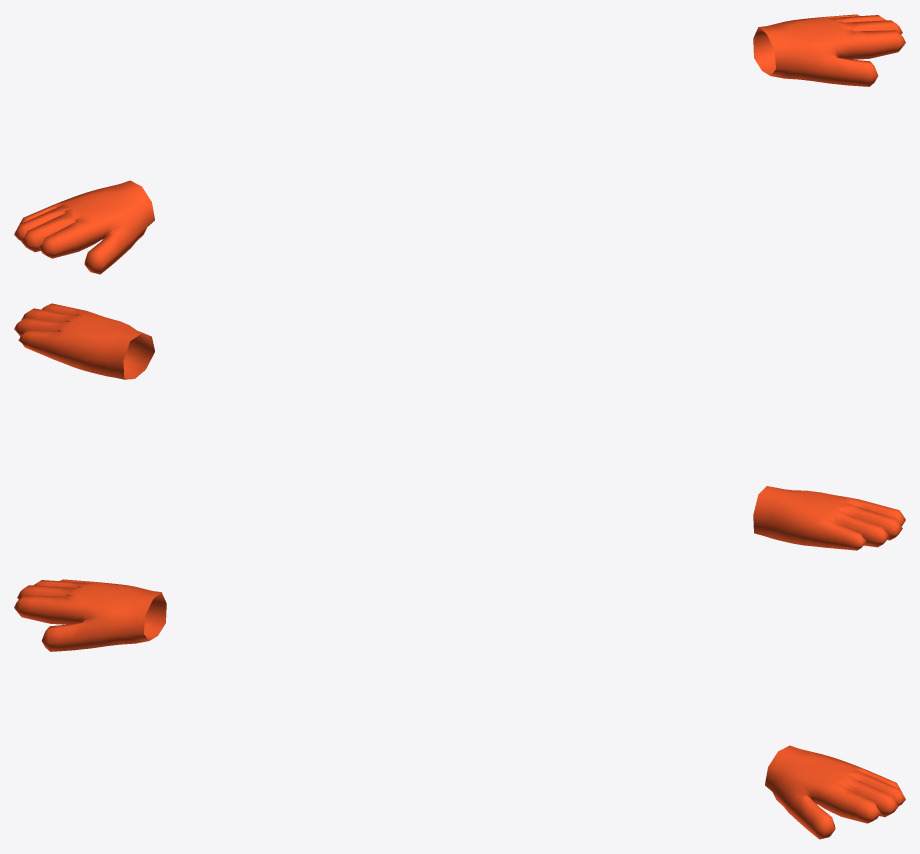
The model's file is Glove_004.glb.
3 views of the same model, one above another, from view 1: azimuth 30°, elevation 25°; view 2: azimuth 150°, elevation 25°; view 3: azimuth 330°, elevation 25° (orthographic).
Visible parts, largest first — view 1: Glove_004; view 2: Glove_004; view 3: Glove_004.
Boxes of the visible parts, <box> form: Glove_004: <box>14,14,905,274</box>; Glove_004: <box>14,303,905,550</box>; Glove_004: <box>14,579,905,839</box>.
Size of the model in its own units: 1.83 by 0.0974 by 0.184.
1 material, 1 textured.
